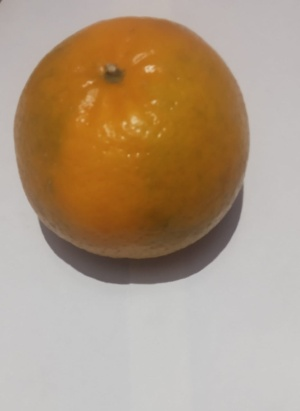BAD: (9, 14, 262, 264)
